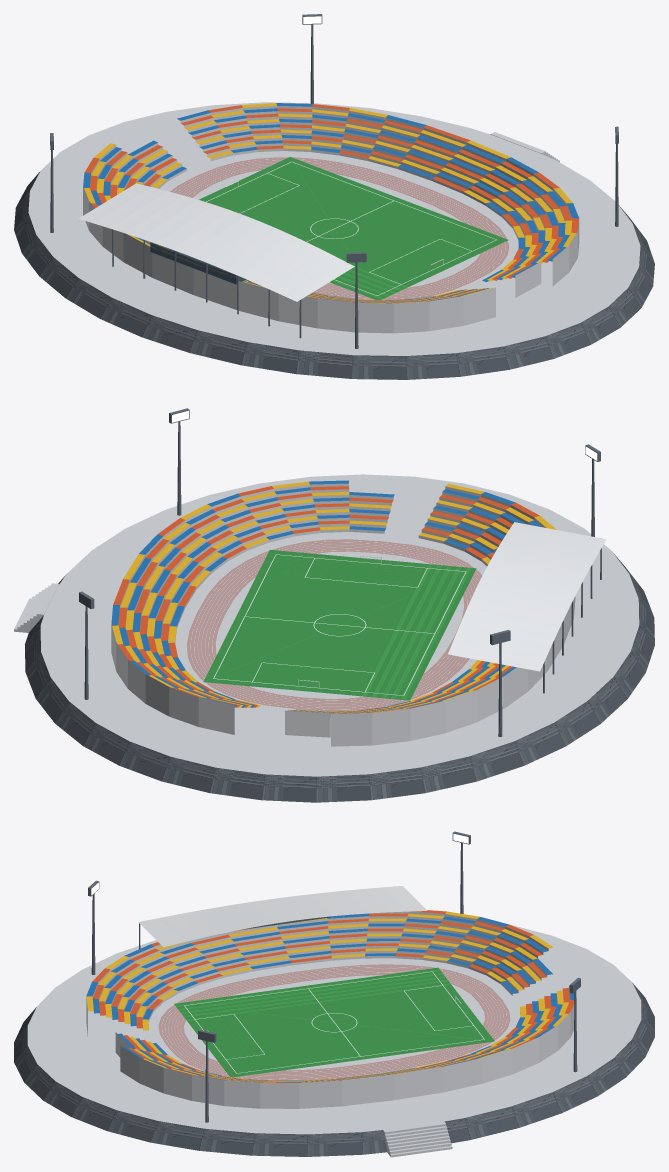
File: dalat_stadium_thanh_mau_T_W01_N02.glb
The picture shows the model from 3 angles, top to bottom: view 1: azimuth 30°, elevation 25°; view 2: azimuth 150°, elevation 25°; view 3: azimuth 270°, elevation 25°; orthographic projection. The views are drawn at different scales.
Visible parts, largest first — view 1: Stadium_Concourse_And_Steps, Stadium_Grandstand_Bowl_Concrete, Stadium_Bermuda_Pitch_105x68m, Stadium_Granite_Retaining_Podium_Neg4m, Stadium_StandA_Arched_SpaceFrame_Roof, Stadium_Seats_Blue, Stadium_Seats_Yellow, Stadium_Seats_Orange, Stadium_8Lane_Running_Track, Stadium_4_Floodlight_Masts_38m, Stadium_White_Markings_And_Goals, Stadium_VIP_Press_Box; view 2: Stadium_Concourse_And_Steps, Stadium_Bermuda_Pitch_105x68m, Stadium_Grandstand_Bowl_Concrete, Stadium_Granite_Retaining_Podium_Neg4m, Stadium_StandA_Arched_SpaceFrame_Roof, Stadium_8Lane_Running_Track, Stadium_Seats_Blue, Stadium_Seats_Yellow, Stadium_Seats_Orange, Stadium_4_Floodlight_Masts_38m, Stadium_White_Markings_And_Goals; view 3: Stadium_Concourse_And_Steps, Stadium_Grandstand_Bowl_Concrete, Stadium_Bermuda_Pitch_105x68m, Stadium_Granite_Retaining_Podium_Neg4m, Stadium_8Lane_Running_Track, Stadium_Seats_Blue, Stadium_Seats_Yellow, Stadium_Seats_Orange, Stadium_StandA_Arched_SpaceFrame_Roof, Stadium_4_Floodlight_Masts_38m, Stadium_White_Markings_And_Goals.
Part boxes in pixels (<box>): Stadium_Concourse_And_Steps: <box>28,102,640,355</box>; Stadium_Grandstand_Bowl_Concrete: <box>83,106,579,333</box>; Stadium_Bermuda_Pitch_105x68m: <box>199,157,508,299</box>; Stadium_Granite_Retaining_Podium_Neg4m: <box>14,172,654,379</box>; Stadium_StandA_Arched_SpaceFrame_Roof: <box>78,183,354,301</box>; Stadium_Seats_Blue: <box>83,103,578,303</box>; Stadium_Seats_Yellow: <box>84,103,576,303</box>; Stadium_Seats_Orange: <box>84,104,578,303</box>; Stadium_8Lane_Running_Track: <box>170,157,509,300</box>; Stadium_4_Floodlight_Masts_38m: <box>50,14,618,348</box>; Stadium_White_Markings_And_Goals: <box>206,161,496,295</box>; Stadium_VIP_Press_Box: <box>150,242,246,284</box>; Stadium_Concourse_And_Steps: <box>14,474,639,776</box>; Stadium_Bermuda_Pitch_105x68m: <box>203,550,476,700</box>; Stadium_Grandstand_Bowl_Concrete: <box>111,483,575,746</box>; Stadium_Granite_Retaining_Podium_Neg4m: <box>25,553,654,802</box>; Stadium_StandA_Arched_SpaceFrame_Roof: <box>448,522,606,671</box>; Stadium_8Lane_Running_Track: <box>186,539,482,711</box>; Stadium_Seats_Blue: <box>111,480,541,716</box>; Stadium_Seats_Yellow: <box>112,481,556,714</box>; Stadium_Seats_Orange: <box>113,486,539,713</box>; Stadium_4_Floodlight_Masts_38m: <box>79,408,601,736</box>; Stadium_White_Markings_And_Goals: <box>213,554,466,695</box>; Stadium_Concourse_And_Steps: <box>27,925,641,1157</box>; Stadium_Grandstand_Bowl_Concrete: <box>86,911,574,1108</box>; Stadium_Bermuda_Pitch_105x68m: <box>174,967,494,1077</box>; Stadium_Granite_Retaining_Podium_Neg4m: <box>14,983,654,1156</box>; Stadium_8Lane_Running_Track: <box>158,964,510,1080</box>; Stadium_Seats_Blue: <box>86,913,574,1082</box>; Stadium_Seats_Yellow: <box>86,911,568,1082</box>; Stadium_Seats_Orange: <box>92,910,574,1082</box>; Stadium_StandA_Arched_SpaceFrame_Roof: <box>138,885,427,947</box>; Stadium_4_Floodlight_Masts_38m: <box>88,831,580,1122</box>; Stadium_White_Markings_And_Goals: <box>184,971,484,1073</box>.
Size of the model in its own units: 224 by 47.39 by 258.
13 materials, 3 textured.
